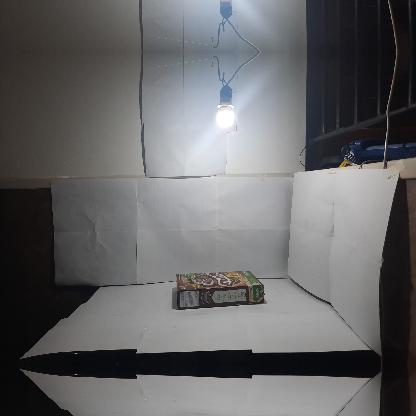Koko-Krunch: (176, 270, 264, 310)
